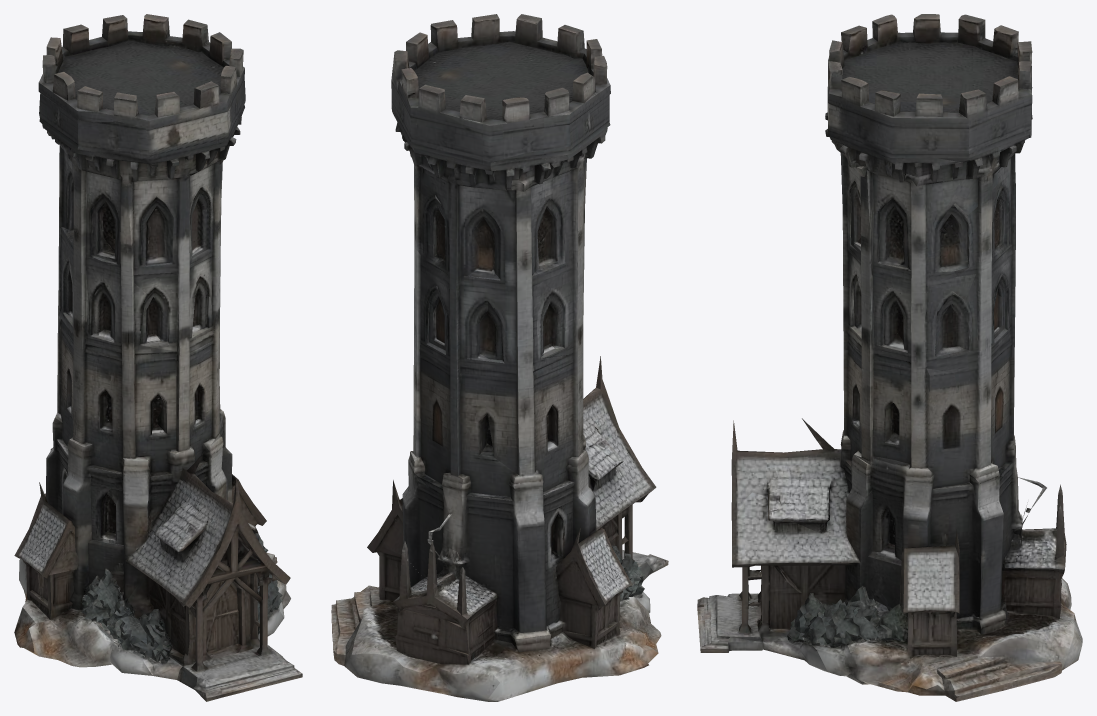
The model's file is gt_winter.glb.
3 views of the same model, side by side, from view 1: azimuth 30°, elevation 25°; view 2: azimuth 150°, elevation 25°; view 3: azimuth 270°, elevation 25° (orthographic). The views are drawn at different scales.
Visible parts, largest first — view 1: gt_winter; view 2: gt_winter; view 3: gt_winter.
Boxes of the visible parts, x1,y1,x2,y2 form: gt_winter: (14, 14, 302, 701); gt_winter: (331, 14, 668, 701); gt_winter: (697, 14, 1082, 701).
Bounding box in the file's own units: 1.06 × 2 × 1.22.
Materials: 1 (1 with a texture image).
